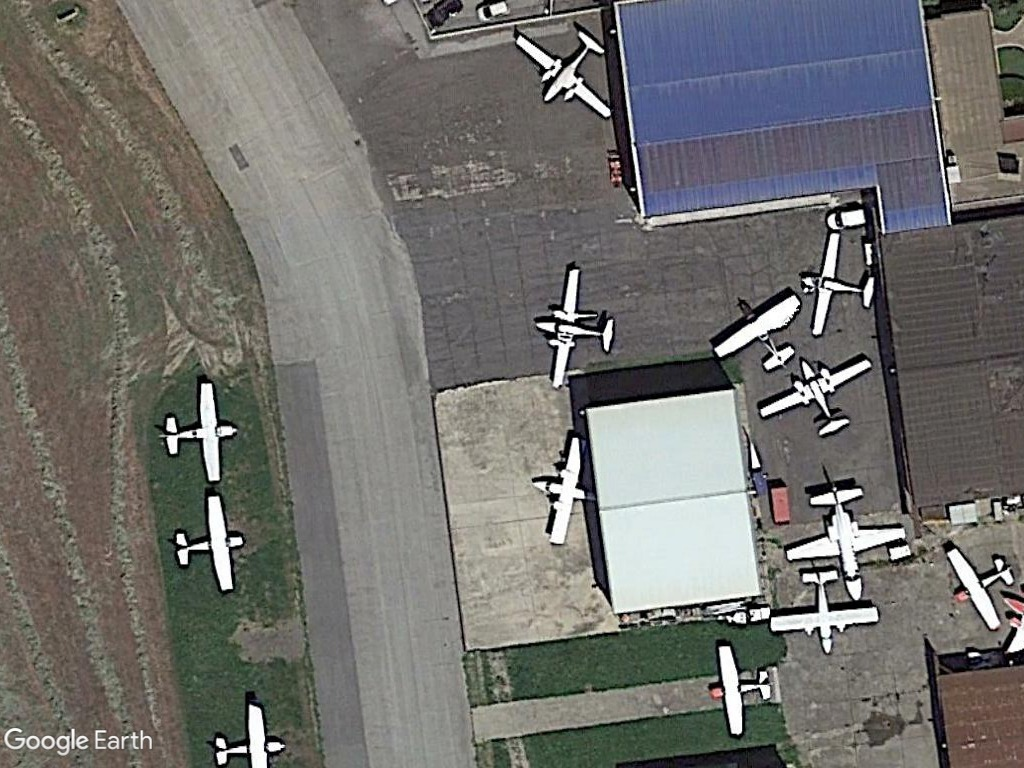car: (818, 206, 876, 231)
chartered: (781, 482, 908, 605)
trainer: (527, 265, 621, 395), (505, 22, 619, 126), (753, 346, 871, 441), (763, 566, 880, 661), (155, 374, 242, 489), (168, 490, 250, 599), (794, 234, 878, 339), (704, 288, 802, 377), (935, 539, 1016, 637), (701, 641, 776, 739)
